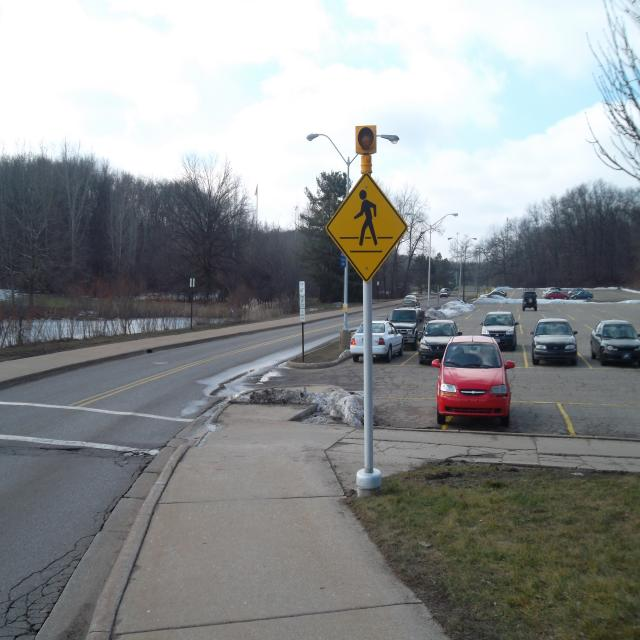warning: (326, 177, 410, 281)
